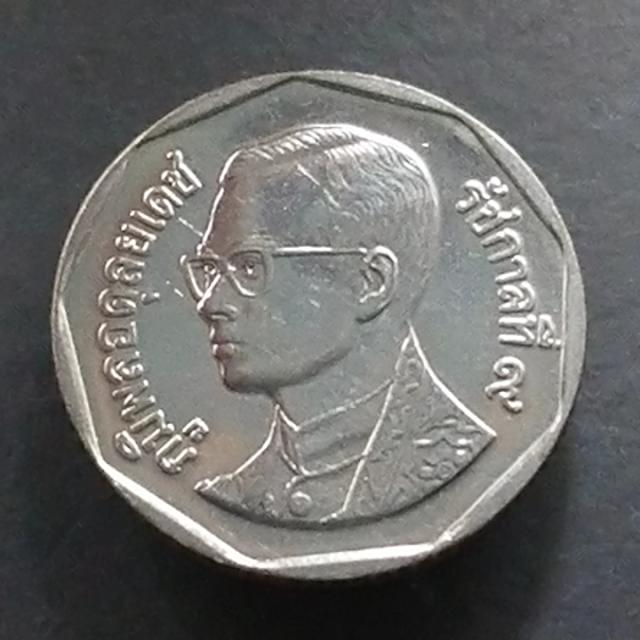5 Bath: (50, 66, 592, 586)
